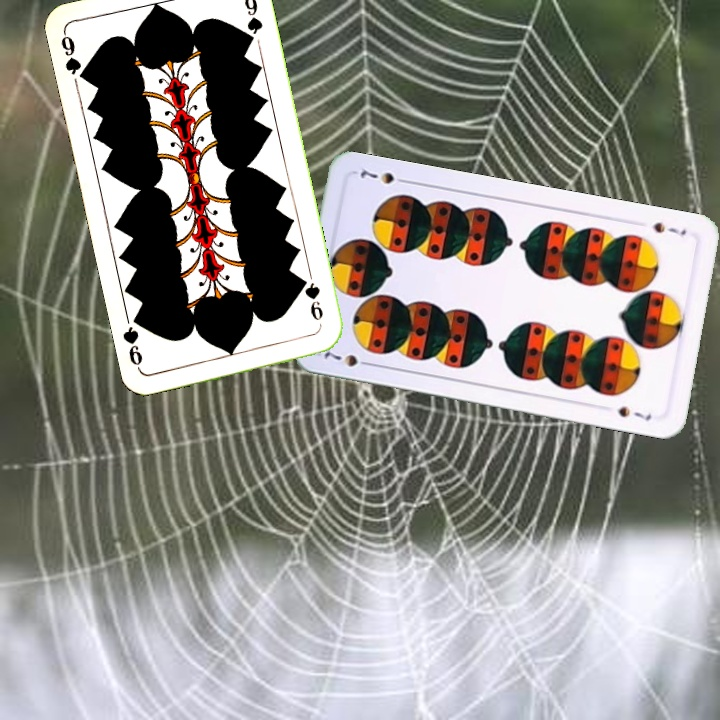G9: (56, 29, 91, 85), (297, 274, 326, 324)
S7: (320, 347, 375, 370), (649, 218, 689, 240)
